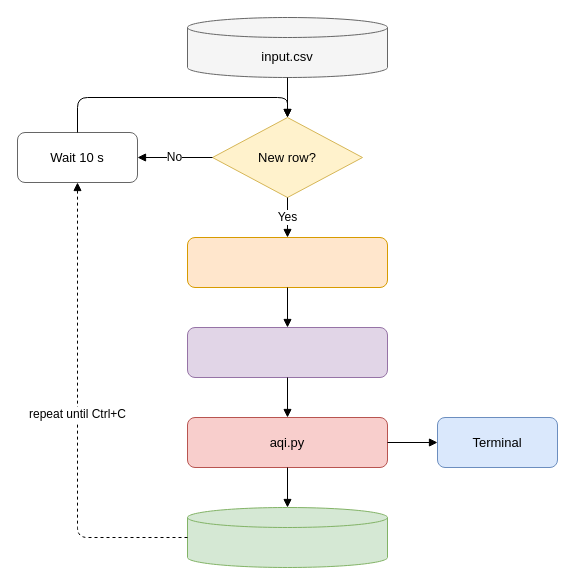
The diagram is 575 pixels wide and 585 high, and some of its shapes have lost their labels. The centre of each missing label's shape, as x and y in pixels:
"imputation.py" goes at point 287,352.
"outlier_detection.py" goes at point 287,262.
"output.csv" goes at point 287,537.
